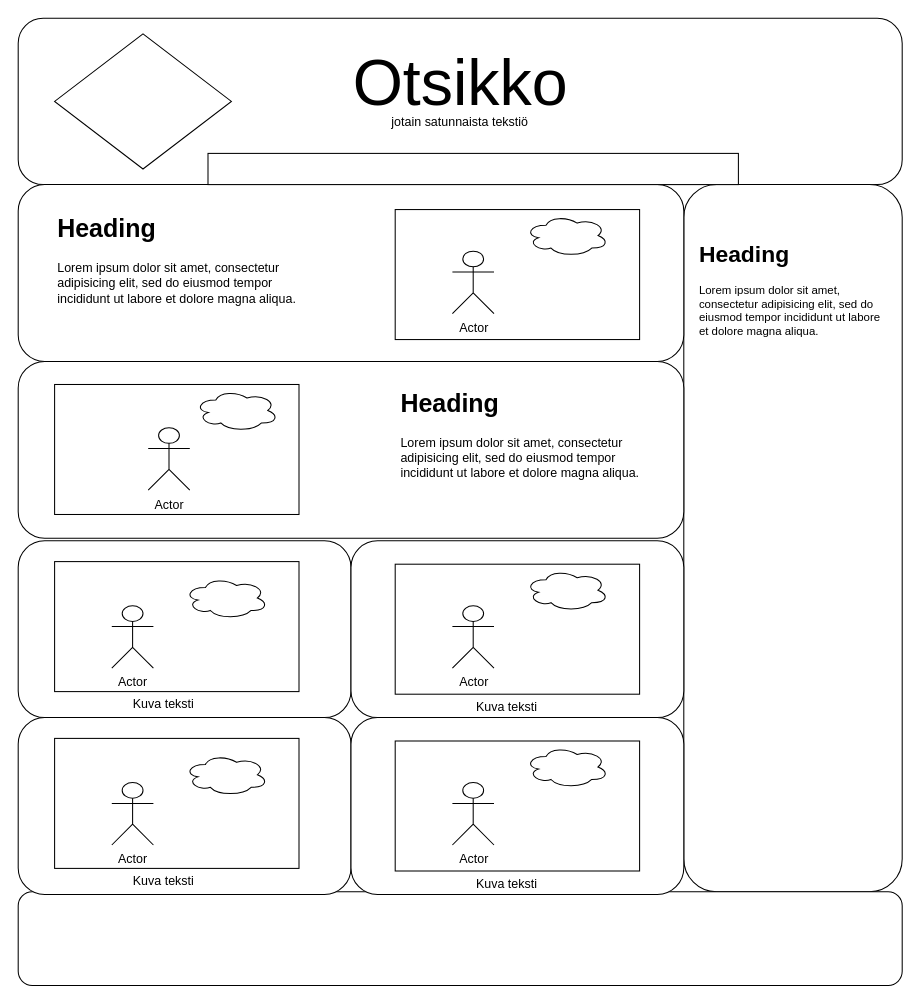
Some shapes in this 920 by 1004 pixel diagram are drawn without their labels. Here are the shapes that lost their labels. From the top down, the centre of each, then its label:
At pixel 142 101: "logo".
At pixel 472 168: "linkit".
At pixel 459 938: "Footer".
